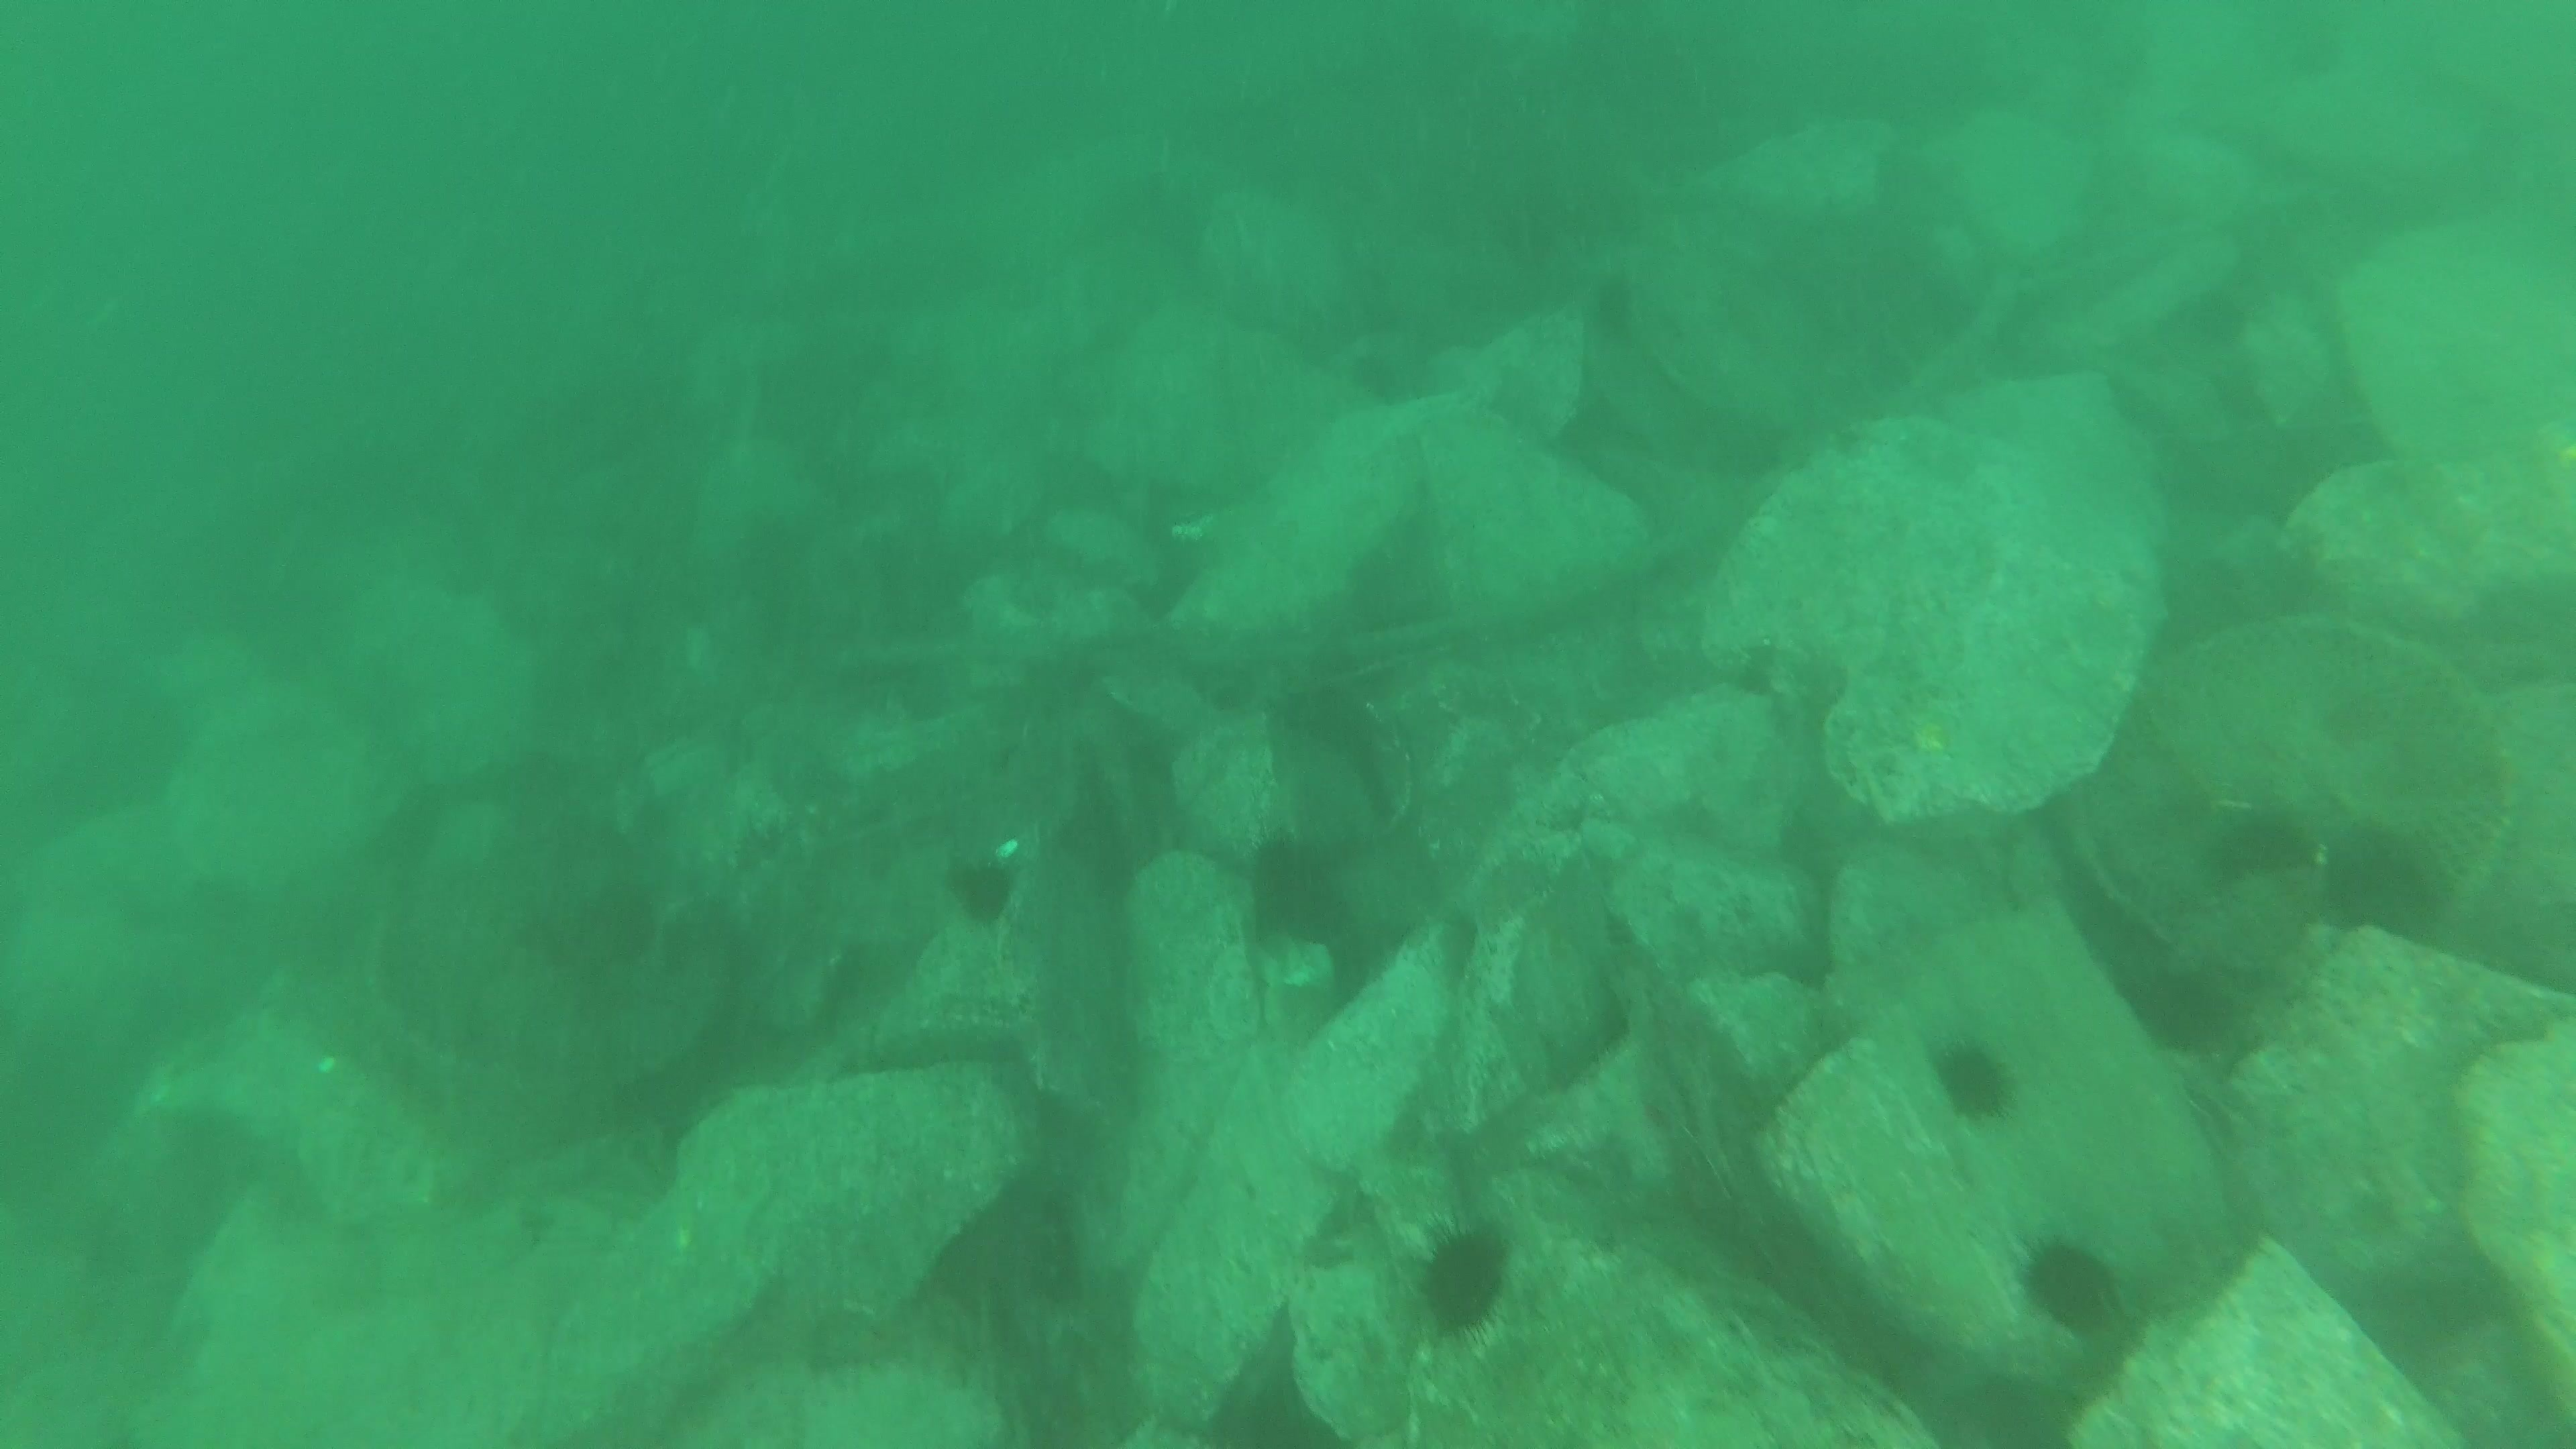echinus: (2316, 823, 2450, 948), (1240, 830, 1355, 950), (1408, 1215, 1518, 1341), (2015, 1231, 2128, 1338), (2127, 961, 2245, 1058), (2201, 800, 2316, 892), (1925, 1033, 2022, 1125), (941, 847, 1023, 929)
